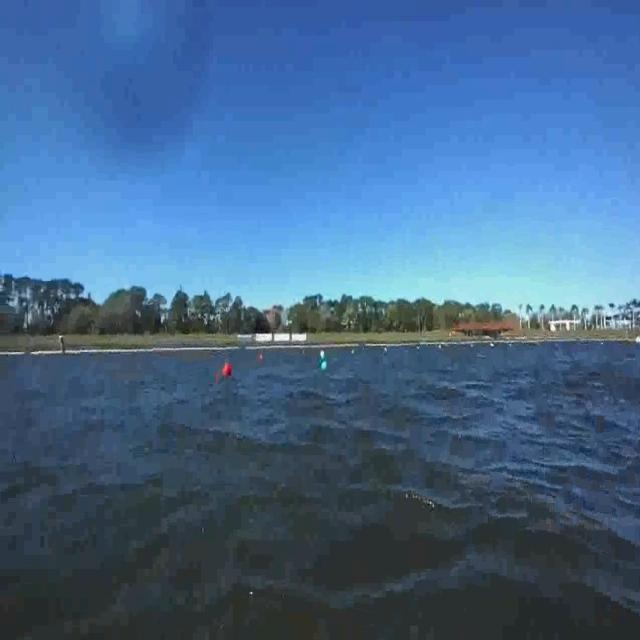green-buoy: (320, 355, 329, 371)
red-buoy: (222, 362, 232, 376)
